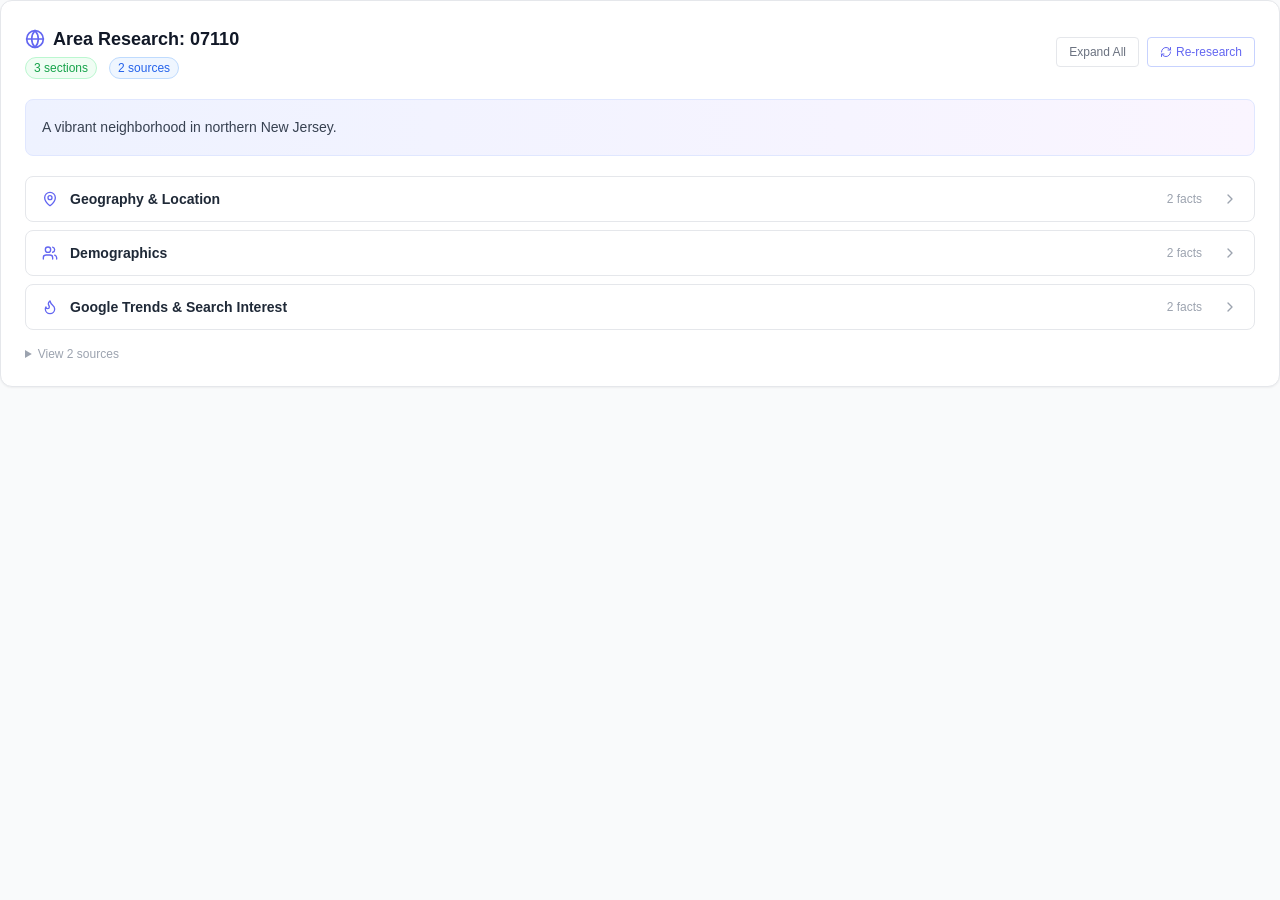
Test: ZipcodeResearch Component › Cached report display › expand all / collapse all toggles all sections
# Expand All
Step 1. Click the button "Expand All" → coordinates (1098, 52), box top-left (1056, 37), bottom-right (1139, 67)
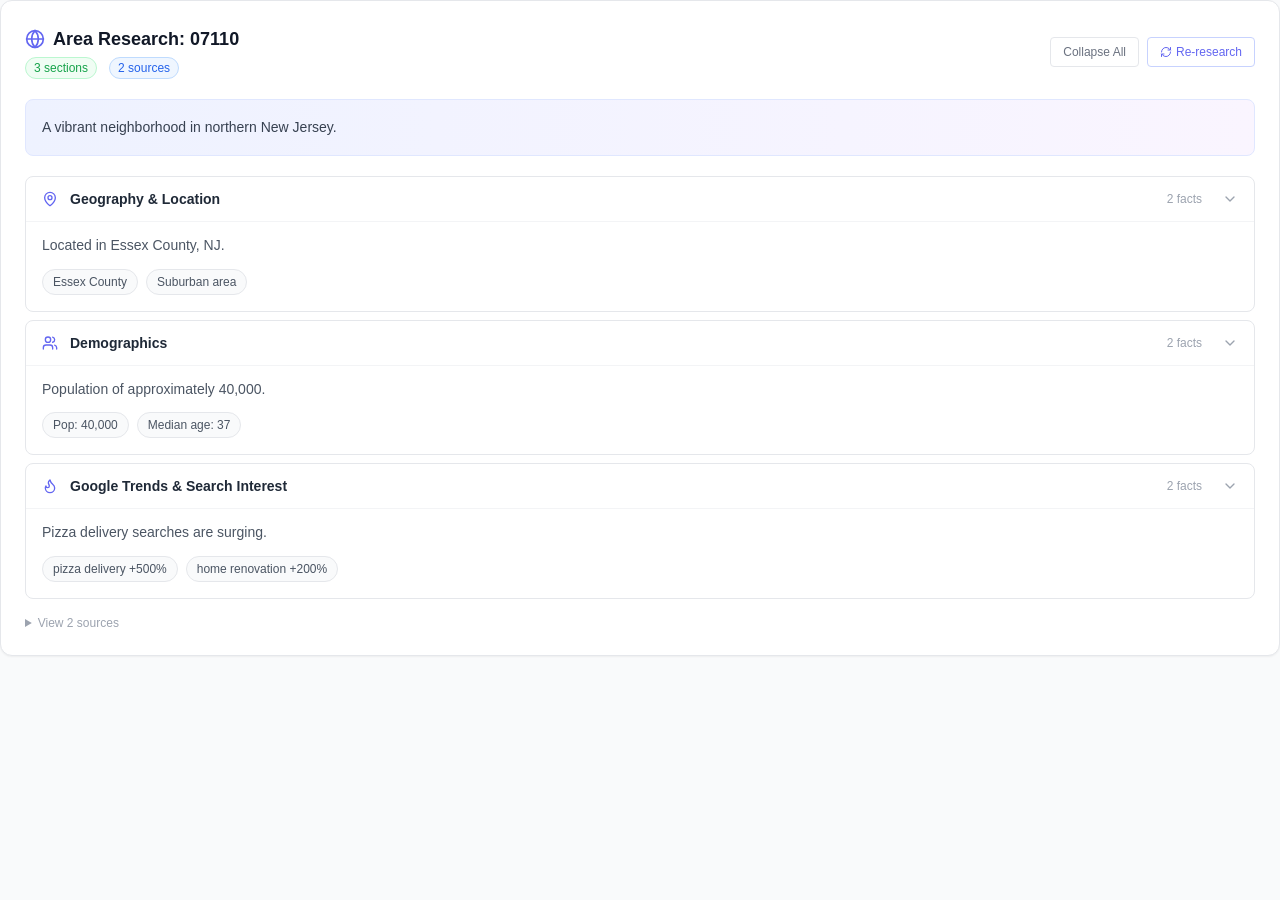
expect the text "Located in Essex County, NJ." is shown: met, box top-left (42, 237), bottom-right (225, 253)
expect the text "Population of approximately 40,000." is shown: met, box top-left (42, 380), bottom-right (265, 396)
expect the text "Pizza delivery searches are surging." is shown: met, box top-left (42, 524), bottom-right (267, 540)
# Collapse All
Step 2. Click the button "Collapse All" → coordinates (1095, 52), box top-left (1050, 37), bottom-right (1139, 67)
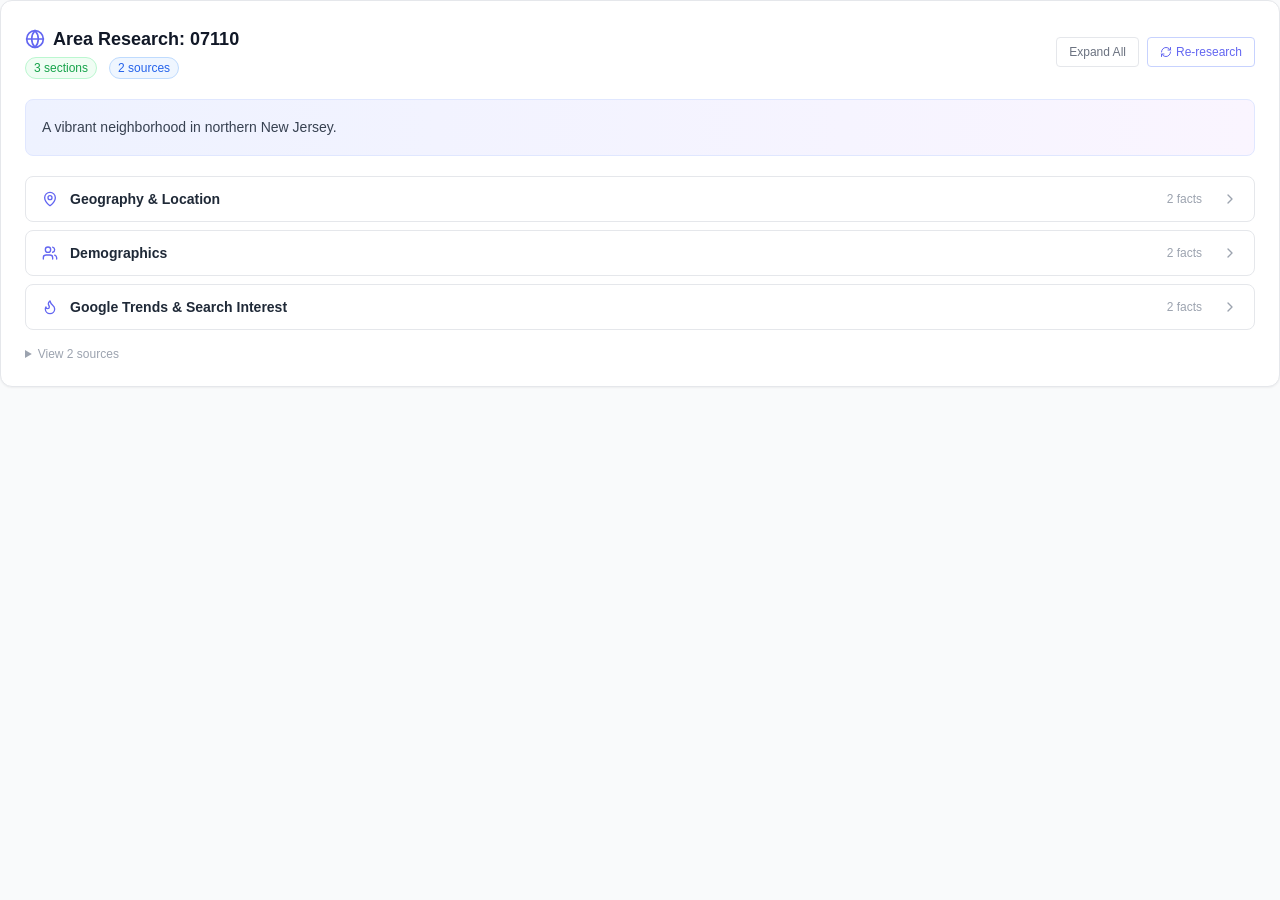
expect the text "Located in Essex County, NJ." is gone: met
expect the button "Expand All" is shown: met, box top-left (1056, 37), bottom-right (1139, 67)
